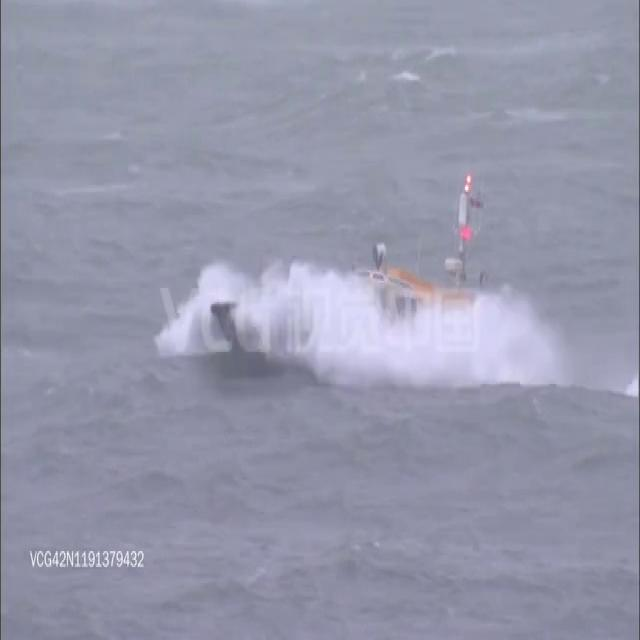houseboat: (214, 186, 514, 382)
